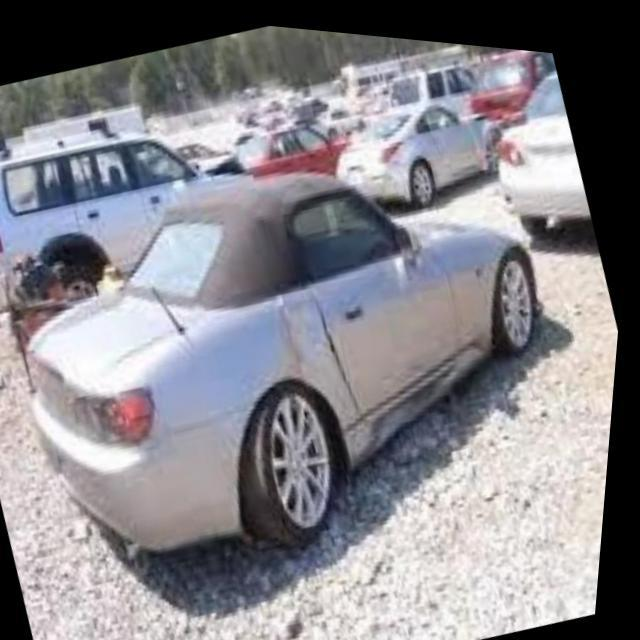dent: (282, 283, 341, 368)
rub: (364, 335, 463, 438)
